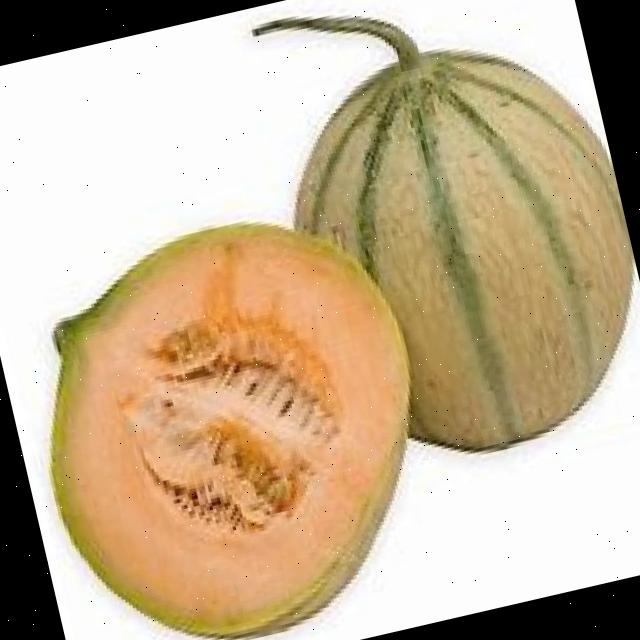Hami Melon: (3, 189, 457, 640), (264, 14, 640, 479)
